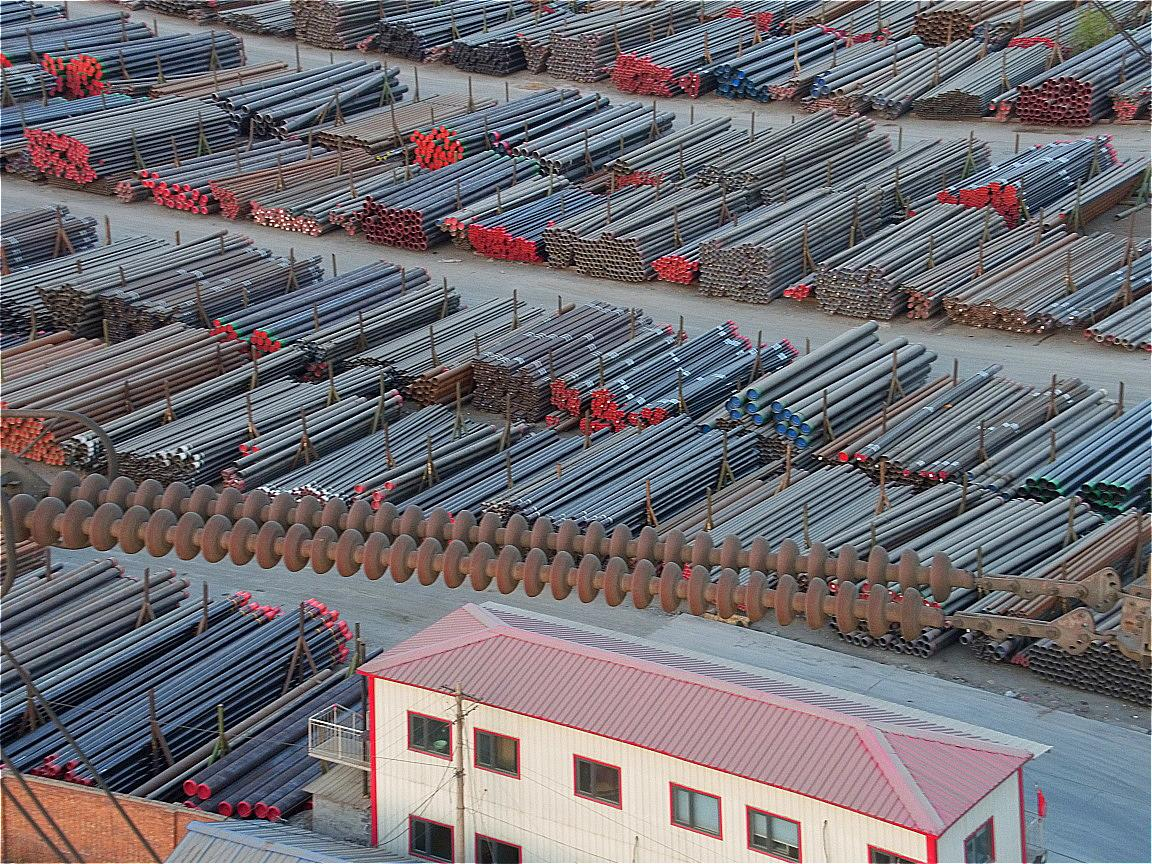insultor1: (8, 469, 958, 642)
